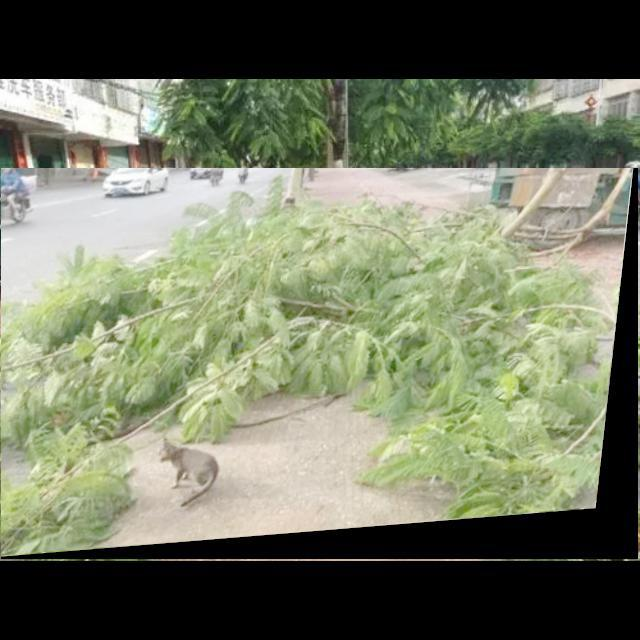fallen_tree: (1, 168, 639, 560)
